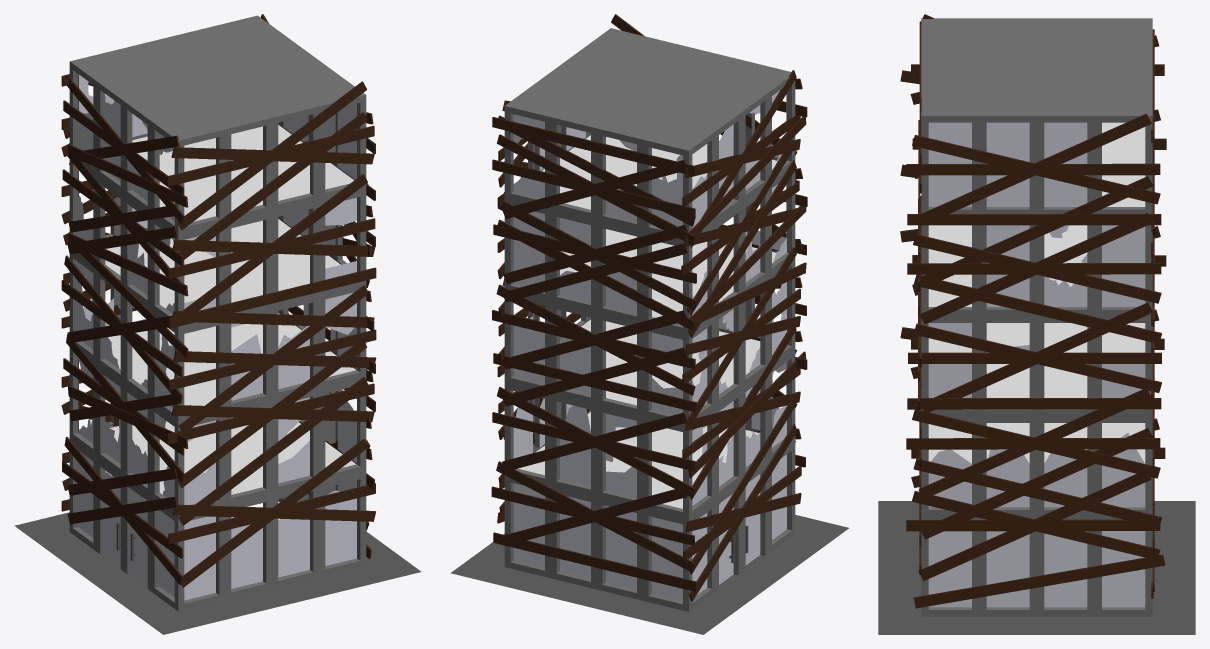
Rendered from 1x1_Skyscraper.col.glb.
3 renders of one model, left to right at view 1: azimuth 30°, elevation 25°; view 2: azimuth 150°, elevation 25°; view 3: azimuth 270°, elevation 25°, orthographic. The views are drawn at different scales.
Parts seen in each view (by area): view 1: 1x1_Skyscraper.col; view 2: 1x1_Skyscraper.col; view 3: 1x1_Skyscraper.col.
Boxes of the visible parts, x1,y1,x2,y2 form: 1x1_Skyscraper.col: (14, 14, 421, 634); 1x1_Skyscraper.col: (450, 14, 848, 634); 1x1_Skyscraper.col: (878, 14, 1195, 634).
Size of the model in its own units: 20 by 35.9 by 20.
